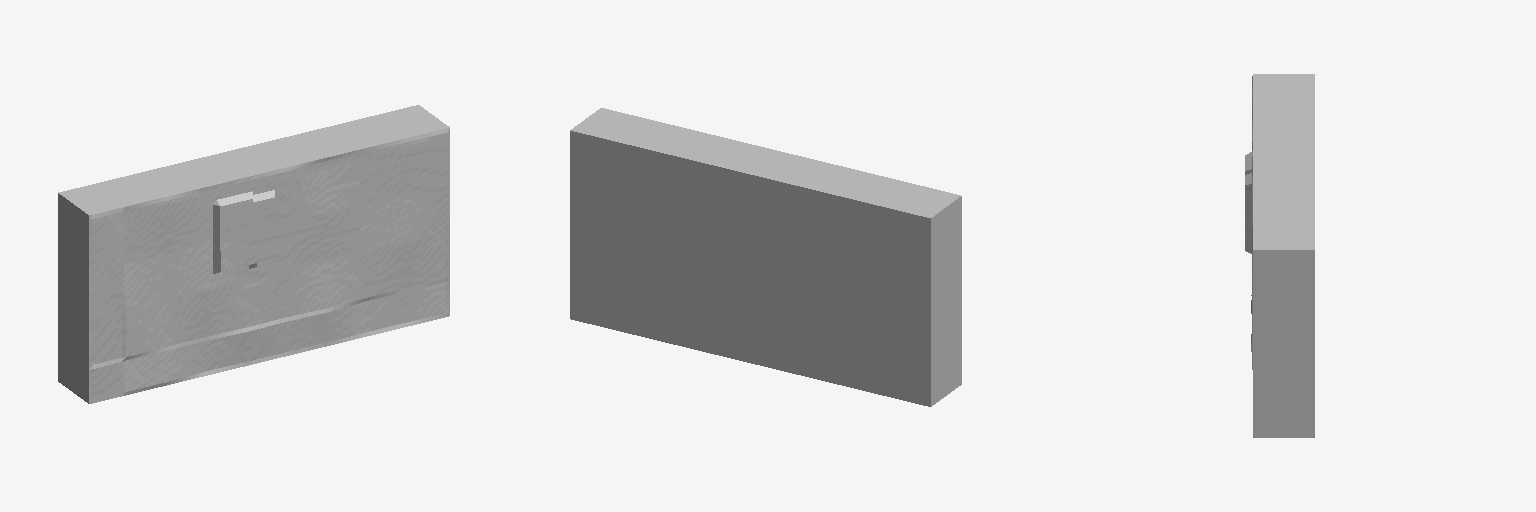
The model's file is rectangular_prism_bumps_2_6.obj.
3 views of the same model, side by side, from view 1: azimuth 30°, elevation 25°; view 2: azimuth 150°, elevation 25°; view 3: azimuth 270°, elevation 25° (orthographic).
Size of the model in its own units: 10 by 5 by 1.69.